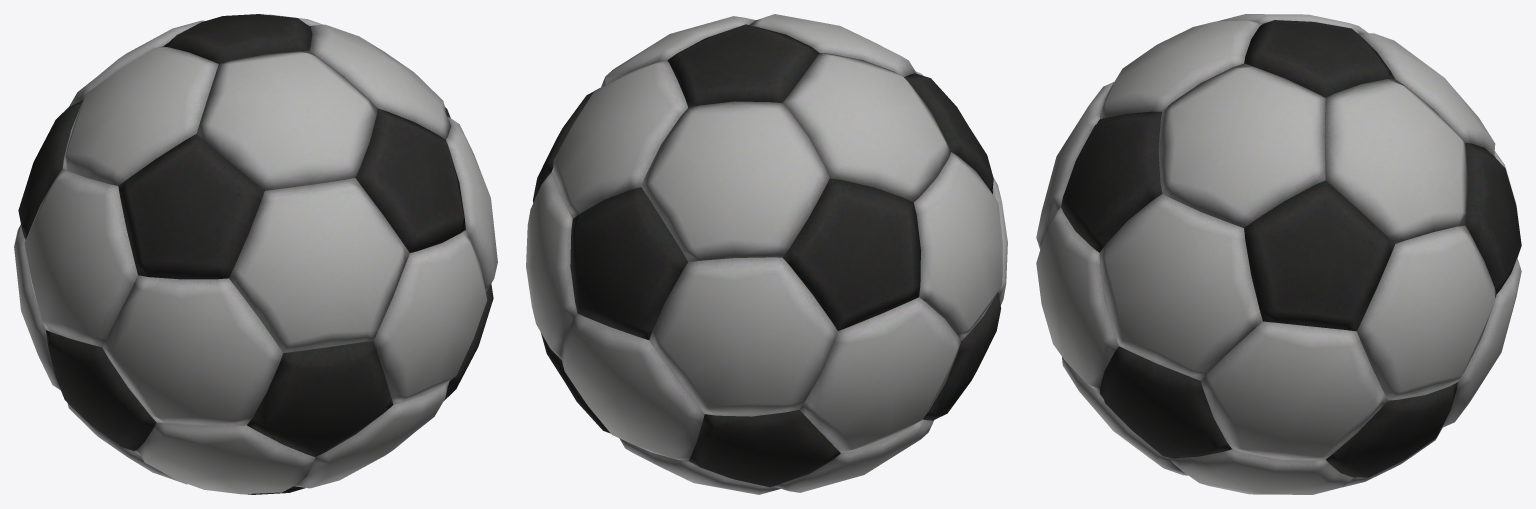
File: ball1.fbx
The picture shows the model from 3 angles, left to right: view 1: azimuth 30°, elevation 25°; view 2: azimuth 150°, elevation 25°; view 3: azimuth 270°, elevation 25°; orthographic projection.
Parts seen in each view (by area): view 1: Soccer_Ball; view 2: Soccer_Ball; view 3: Soccer_Ball.
Boxes of the visible parts, x1=… form: Soccer_Ball: x1=14, y1=14, x2=497, y2=494; Soccer_Ball: x1=526, y1=14, x2=1007, y2=494; Soccer_Ball: x1=1036, y1=14, x2=1521, y2=494.
Size of the model in its own units: 100 by 100 by 100.
